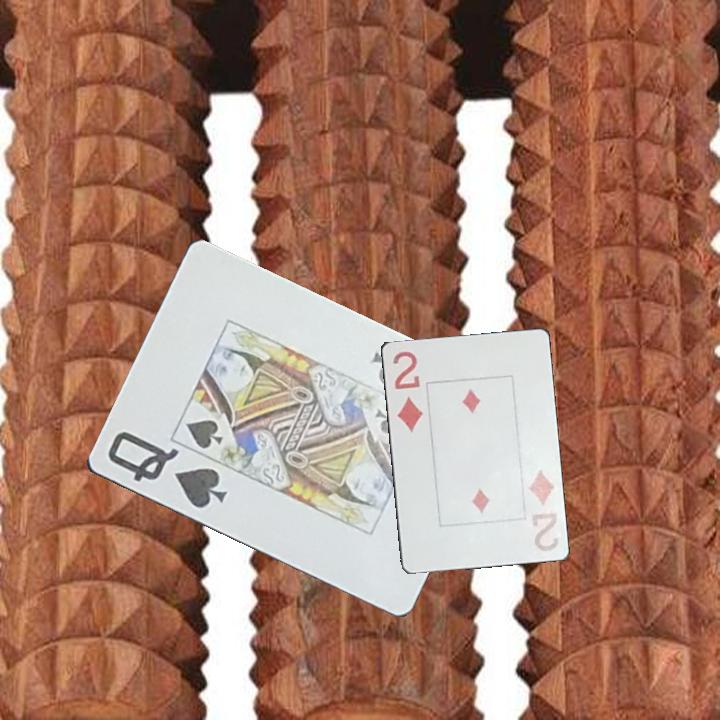2d: (523, 465, 564, 554), (389, 347, 425, 435)
Qs: (103, 427, 230, 512)
